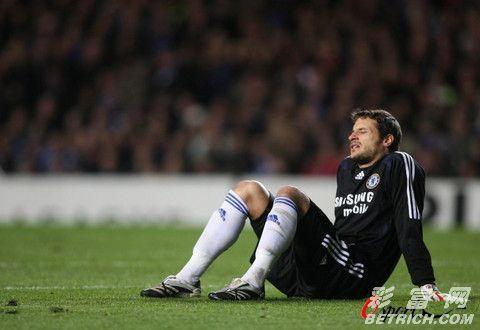Fall-Detected: (145, 101, 442, 302)
